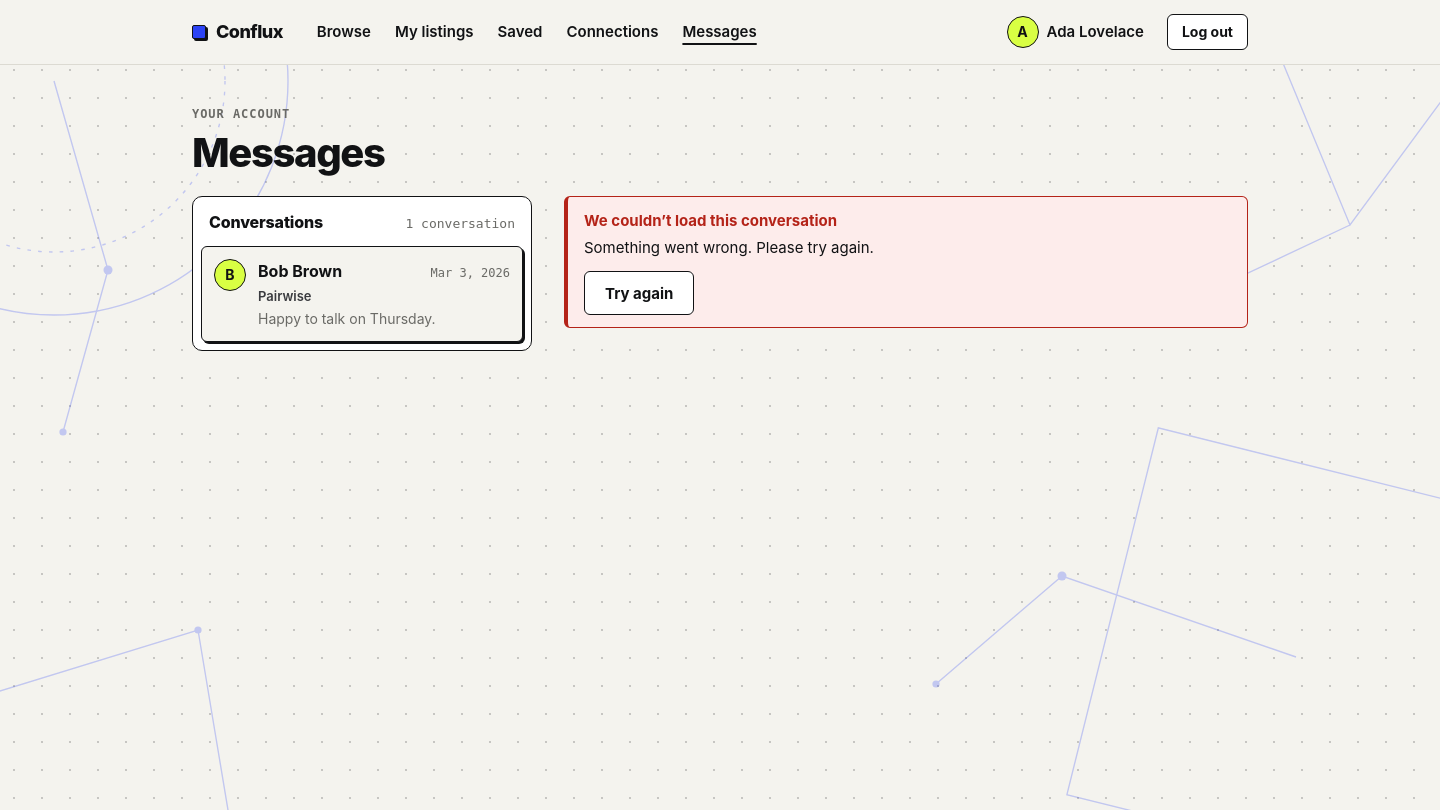
Test: Conversation detail › shows other failures with a working retry
Check: the message that starts with "We couldn’t load this conversation" is shown, box x1=584 y1=211 x2=837 y2=230
Step 1. Click the button "Try again" → [639, 293], box x1=584 y1=271 x2=694 y2=315
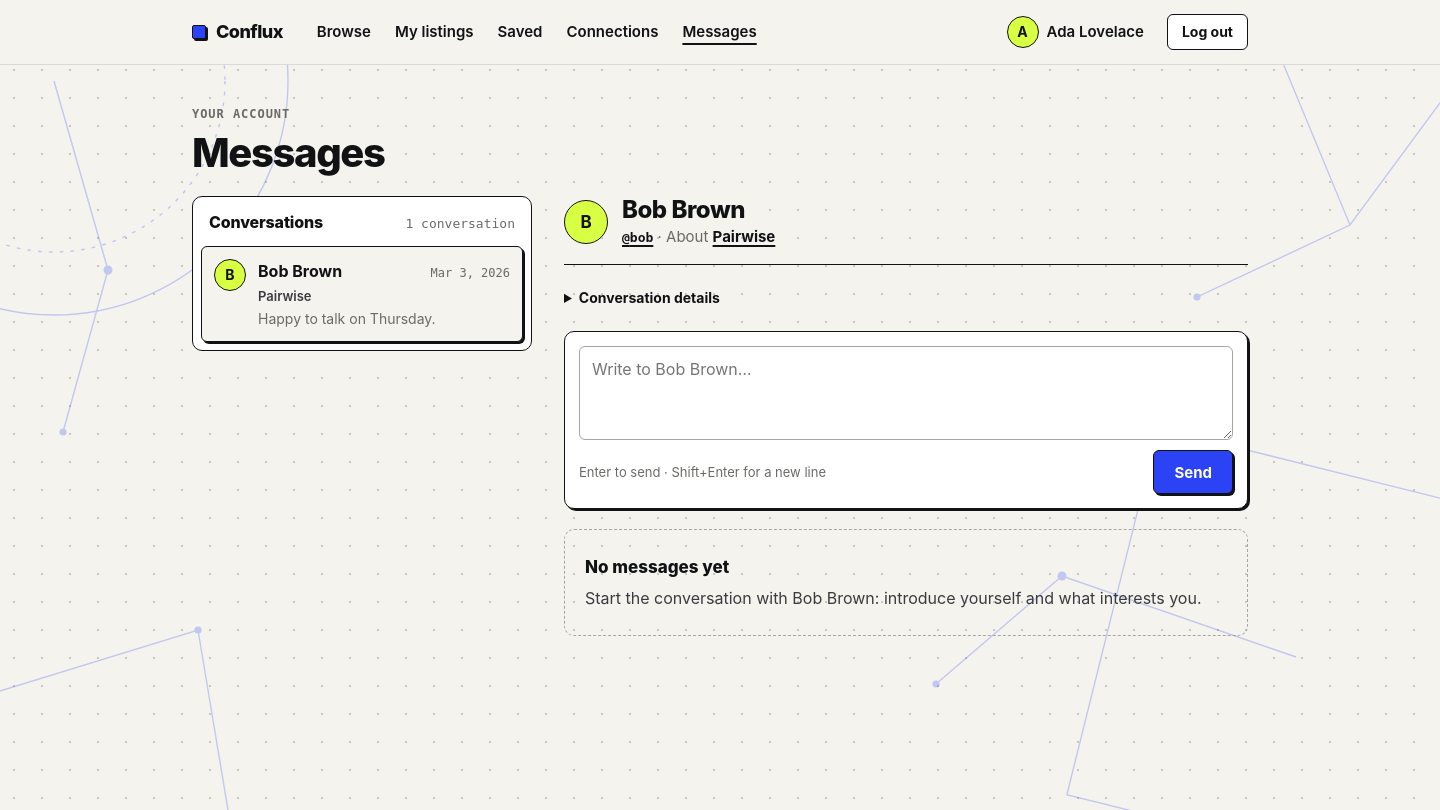
Check: the heading "Bob Brown" is shown, box x1=622 y1=195 x2=745 y2=224
